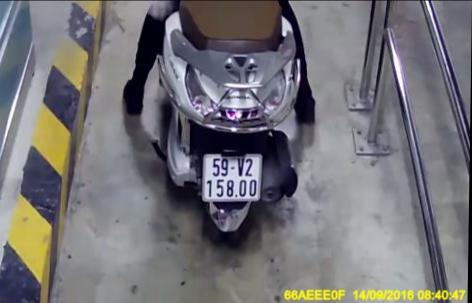LP: (202, 152, 263, 201)
